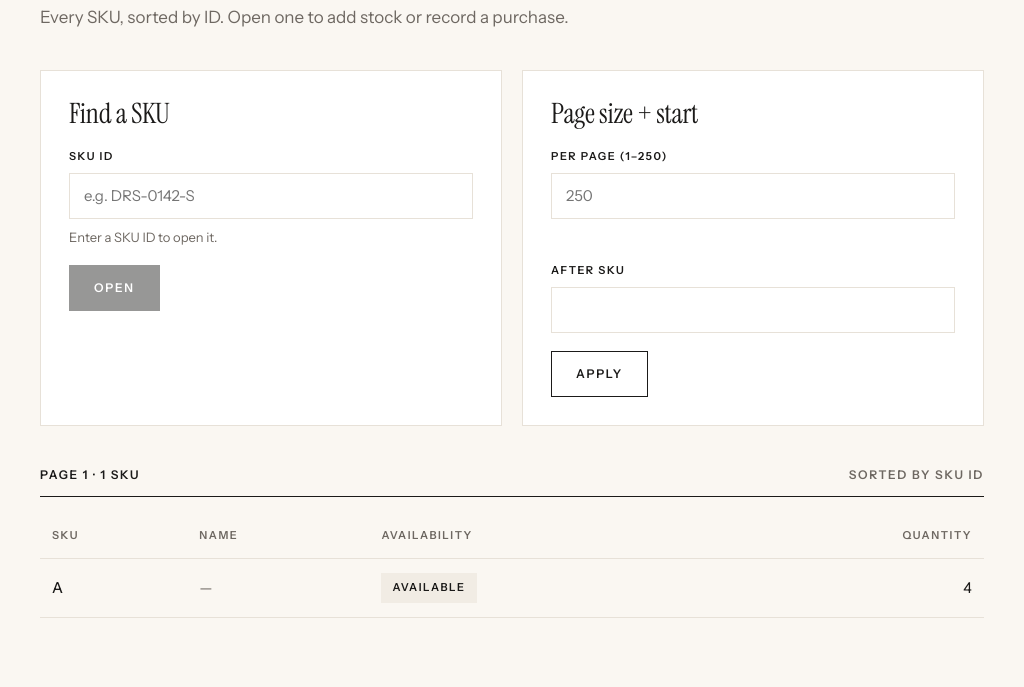
Scenario: App routing › shows the list at #/ and navigates to a SKU
(page scrolled)
What coordinates should you click on to do the following:
click the link "A"
I would click on:
 (58, 588)
Its box is [52,578,63,597].
(page scrolled)
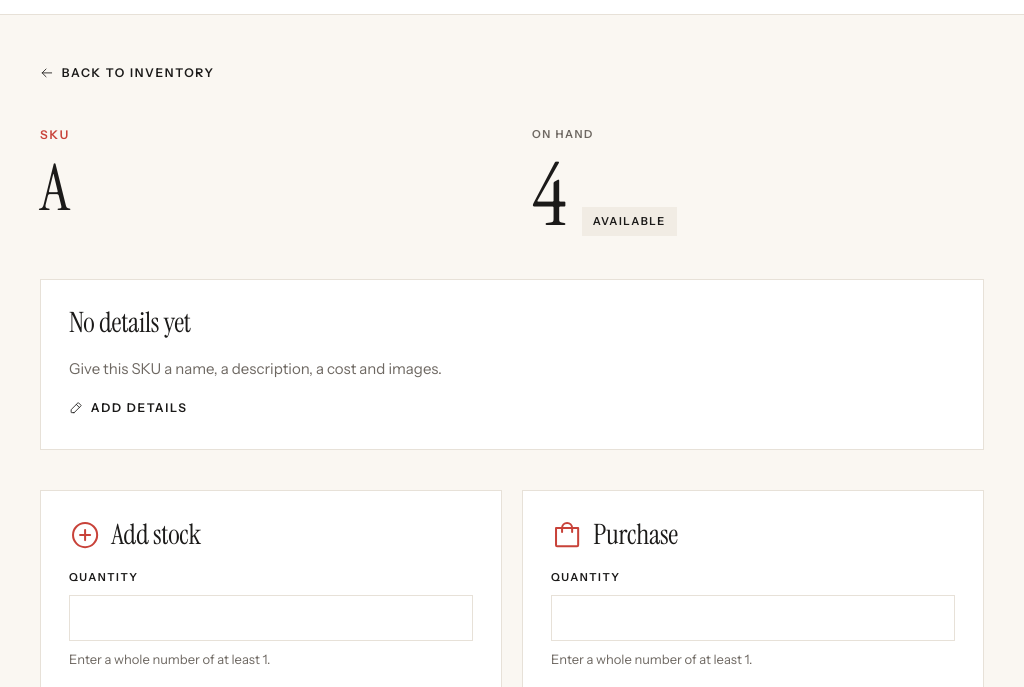
Result: the heading "A" is shown at [40,146,69,230]
